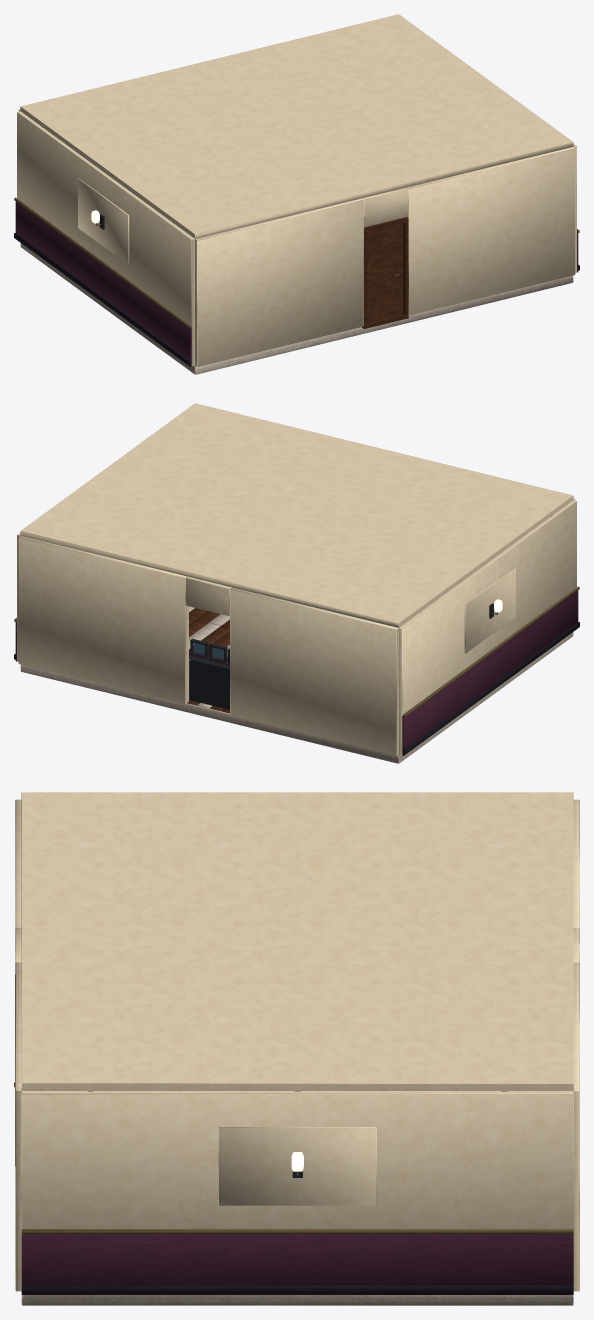
File: explore3d__theatre_preparation.glb
3 renders of one model, top to bottom at view 1: azimuth 30°, elevation 25°; view 2: azimuth 150°, elevation 25°; view 3: azimuth 270°, elevation 25°, orthographic. The views are drawn at different scales.
Parts seen in each view (by area): view 1: Rebuilt_theatre_preparation; view 2: Rebuilt_theatre_preparation; view 3: Rebuilt_theatre_preparation.
Part boxes in pixels (left/top/right/bottom): Rebuilt_theatre_preparation: left=14, top=14, right=579, bottom=374; Rebuilt_theatre_preparation: left=14, top=403, right=579, bottom=763; Rebuilt_theatre_preparation: left=14, top=792, right=579, bottom=1305.
Size of the model in its own units: 10.79 by 3.56 by 8.2.
18 materials, 15 textured.
